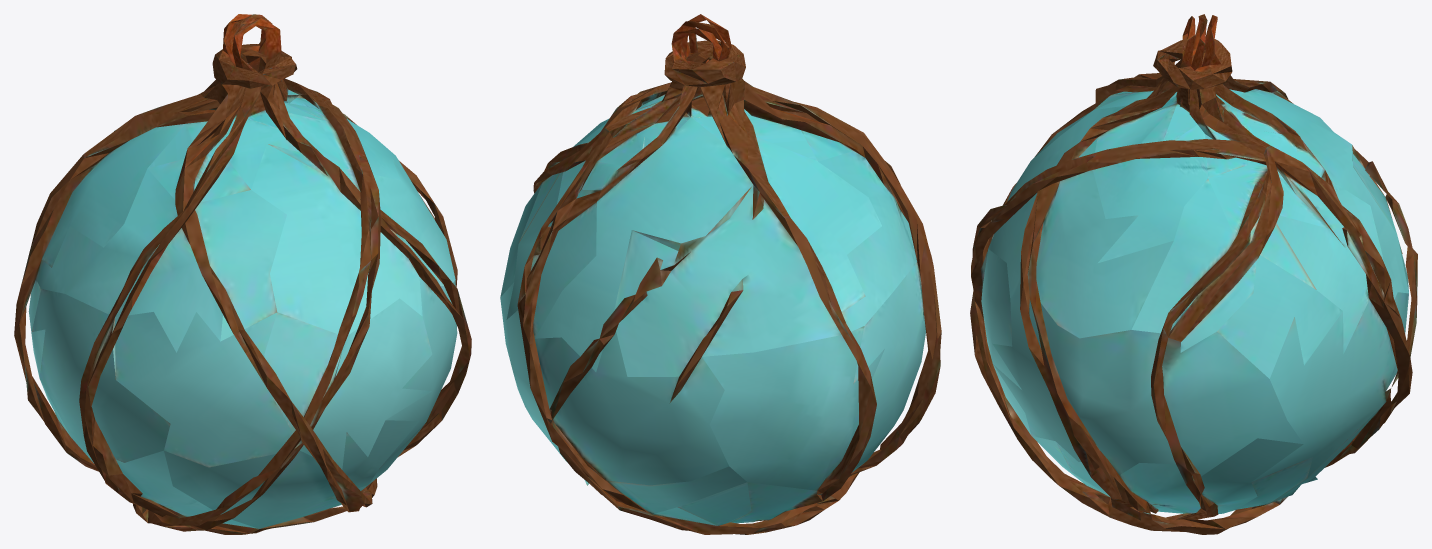
Rendered from glass-float.glb.
The picture shows the model from 3 angles, left to right: view 1: azimuth 30°, elevation 25°; view 2: azimuth 150°, elevation 25°; view 3: azimuth 270°, elevation 25°; orthographic projection.
Size of the model in its own units: 1.62 by 1.9 by 1.63.
Materials: 1 (1 with a texture image).
